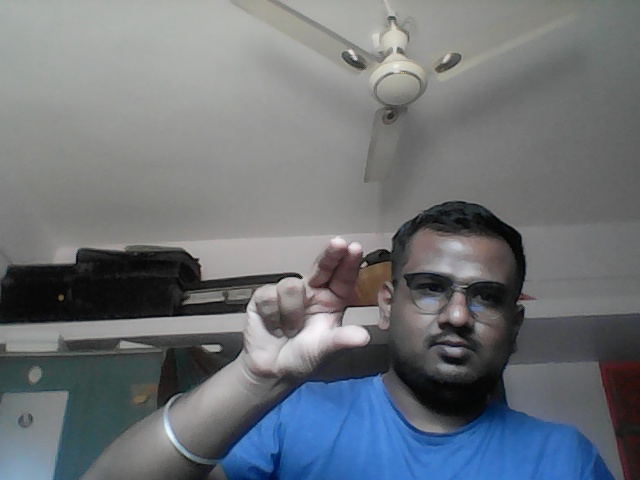No: (242, 234, 374, 386)
